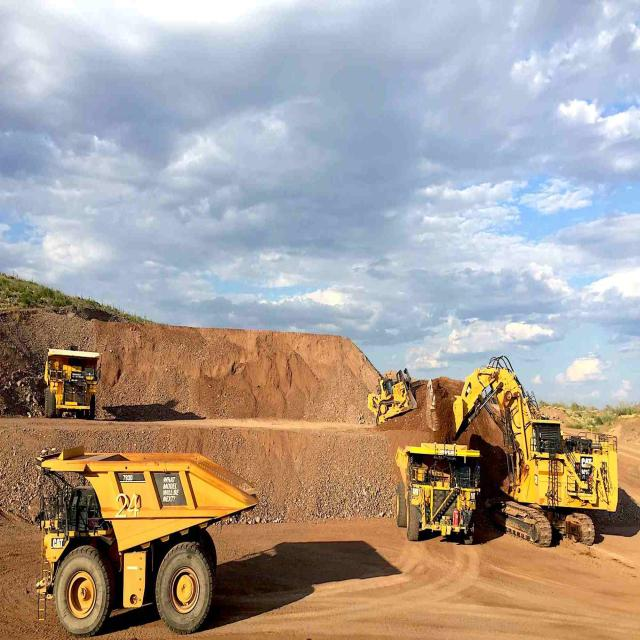buldozerpayloadergrader: (358, 367, 424, 431)
dump_truck: (36, 436, 264, 624), (393, 446, 484, 554), (36, 330, 105, 421)
excavator: (429, 364, 619, 553)
